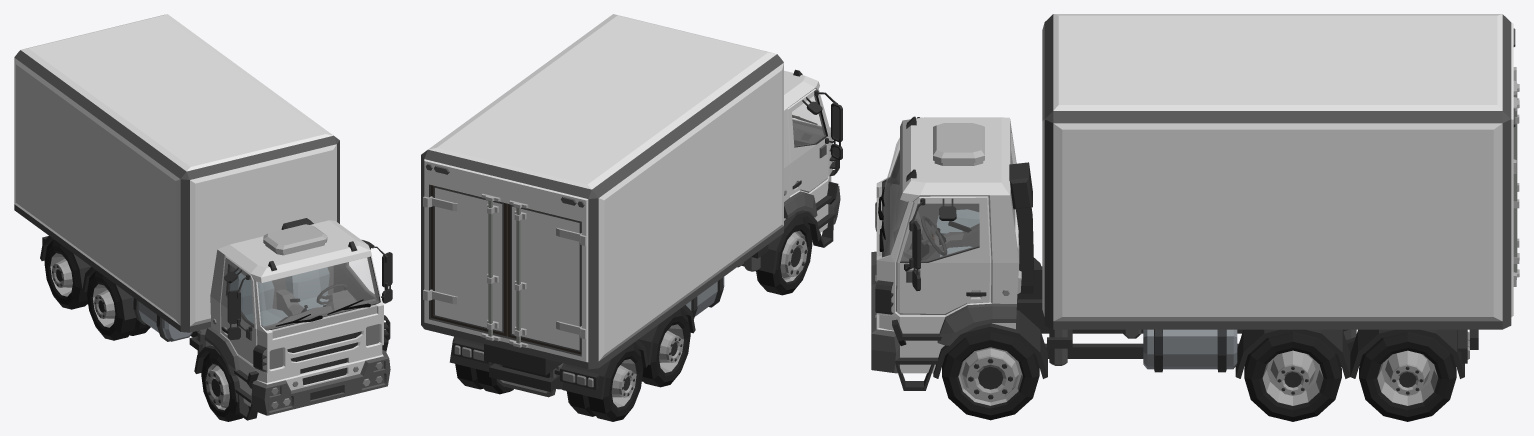
The model's file is box-truck.glb.
3 renders of one model, left to right at view 1: azimuth 30°, elevation 25°; view 2: azimuth 150°, elevation 25°; view 3: azimuth 270°, elevation 25°, orthographic. The views are drawn at different scales.
Visible parts, largest first — view 1: box-truck; view 2: box-truck; view 3: box-truck.
Part boxes in pixels (bbox=[...]): box-truck: bbox=[14, 14, 392, 421]; box-truck: bbox=[421, 14, 842, 421]; box-truck: bbox=[871, 14, 1519, 421].
Bounding box in the file's own units: 2.75 × 3.76 × 6.95.
Materials: 2 (1 with a texture image).
